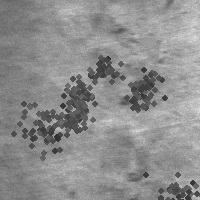rolled-in_scale: (0, 79, 85, 167), (98, 22, 148, 113), (110, 57, 170, 117), (141, 159, 200, 200), (49, 91, 95, 137), (54, 69, 100, 115), (81, 46, 123, 88)
